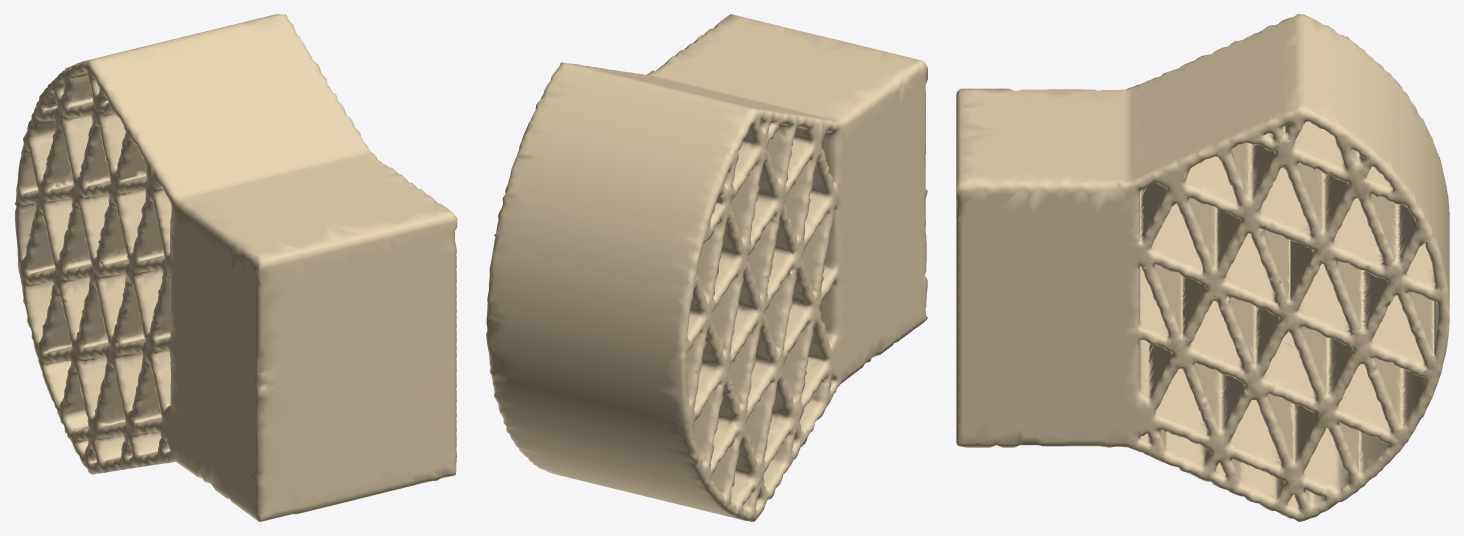
The model's file is ollie-paw-shape-065.glb.
3 renders of one model, left to right at view 1: azimuth 30°, elevation 25°; view 2: azimuth 150°, elevation 25°; view 3: azimuth 270°, elevation 25°, orthographic.
Parts seen in each view (by area): view 1: world; view 2: world; view 3: world.
Boxes of the visible parts, x1=… form: world: x1=14, y1=14, x2=457, y2=521; world: x1=486, y1=14, x2=927, y2=521; world: x1=956, y1=14, x2=1449, y2=521.
Size of the model in its own units: 20 by 39.95 by 43.
